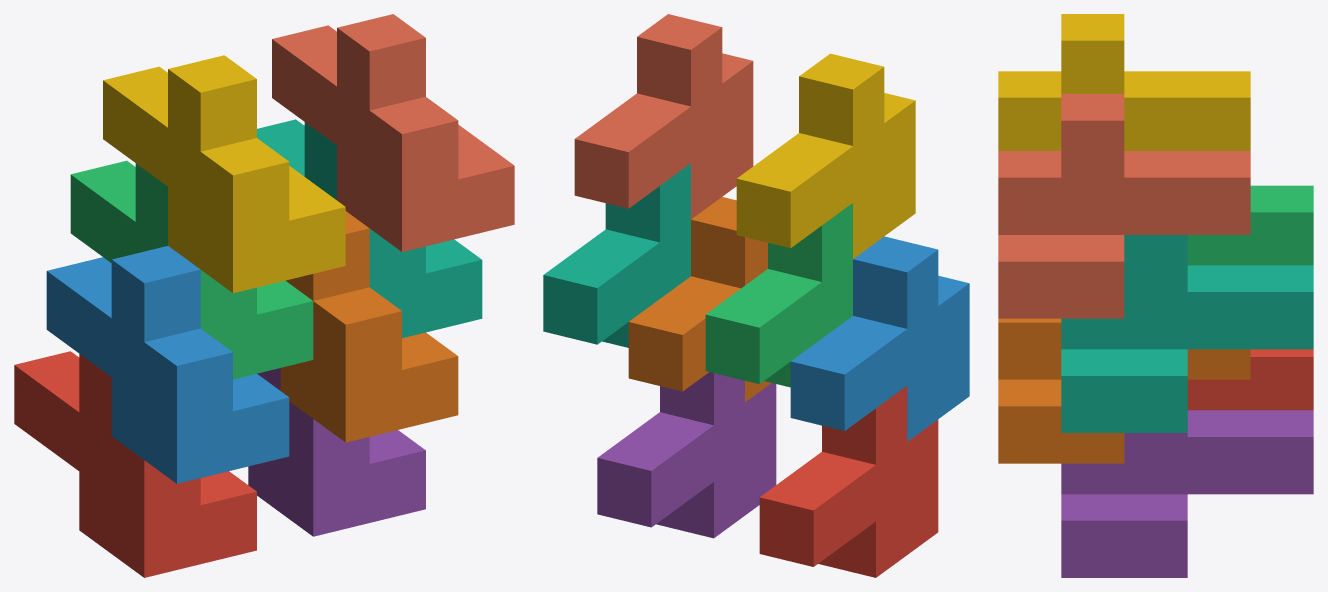
Rendered from tiling.obj.
3 renders of one model, left to right at view 1: azimuth 30°, elevation 25°; view 2: azimuth 150°, elevation 25°; view 3: azimuth 270°, elevation 25°, orthographic. The views are drawn at different scales.
Parts seen in each view (by area): view 1: copy_1_domain_4, copy_1_domain_8, copy_1_domain_2, copy_1_domain_1, copy_1_domain_6, copy_1_domain_3, copy_1_domain_5, copy_1_domain_7; view 2: copy_1_domain_4, copy_1_domain_2, copy_1_domain_8, copy_1_domain_1, copy_1_domain_5, copy_1_domain_7, copy_1_domain_3, copy_1_domain_6; view 3: copy_1_domain_8, copy_1_domain_7, copy_1_domain_5, copy_1_domain_4, copy_1_domain_6, copy_1_domain_3, copy_1_domain_1.
Boxes of the visible parts, x1=… form: copy_1_domain_4: x1=103, y1=55, x2=345, y2=293; copy_1_domain_8: x1=272, y1=14, x2=514, y2=251; copy_1_domain_2: x1=46, y1=246, x2=289, y2=483; copy_1_domain_1: x1=14, y1=351, x2=256, y2=577; copy_1_domain_6: x1=280, y1=211, x2=458, y2=442; copy_1_domain_3: x1=70, y1=160, x2=313, y2=379; copy_1_domain_5: x1=248, y1=368, x2=425, y2=536; copy_1_domain_7: x1=257, y1=119, x2=482, y2=338; copy_1_domain_4: x1=736, y1=53, x2=915, y2=258; copy_1_domain_2: x1=790, y1=236, x2=969, y2=441; copy_1_domain_8: x1=574, y1=14, x2=753, y2=219; copy_1_domain_1: x1=759, y1=386, x2=938, y2=577; copy_1_domain_5: x1=597, y1=372, x2=776, y2=538; copy_1_domain_7: x1=543, y1=163, x2=690, y2=347; copy_1_domain_3: x1=705, y1=203, x2=852, y2=387; copy_1_domain_6: x1=628, y1=197, x2=771, y2=402; copy_1_domain_8: x1=998, y1=94, x2=1250, y2=318; copy_1_domain_7: x1=1061, y1=235, x2=1313, y2=432; copy_1_domain_5: x1=1061, y1=410, x2=1313, y2=577; copy_1_domain_4: x1=998, y1=14, x2=1250, y2=150; copy_1_domain_6: x1=998, y1=318, x2=1250, y2=463; copy_1_domain_3: x1=1187, y1=185, x2=1313, y2=265; copy_1_domain_1: x1=1187, y1=349, x2=1313, y2=410.
Bounding box in the file's own units: 6 × 8 × 5.
